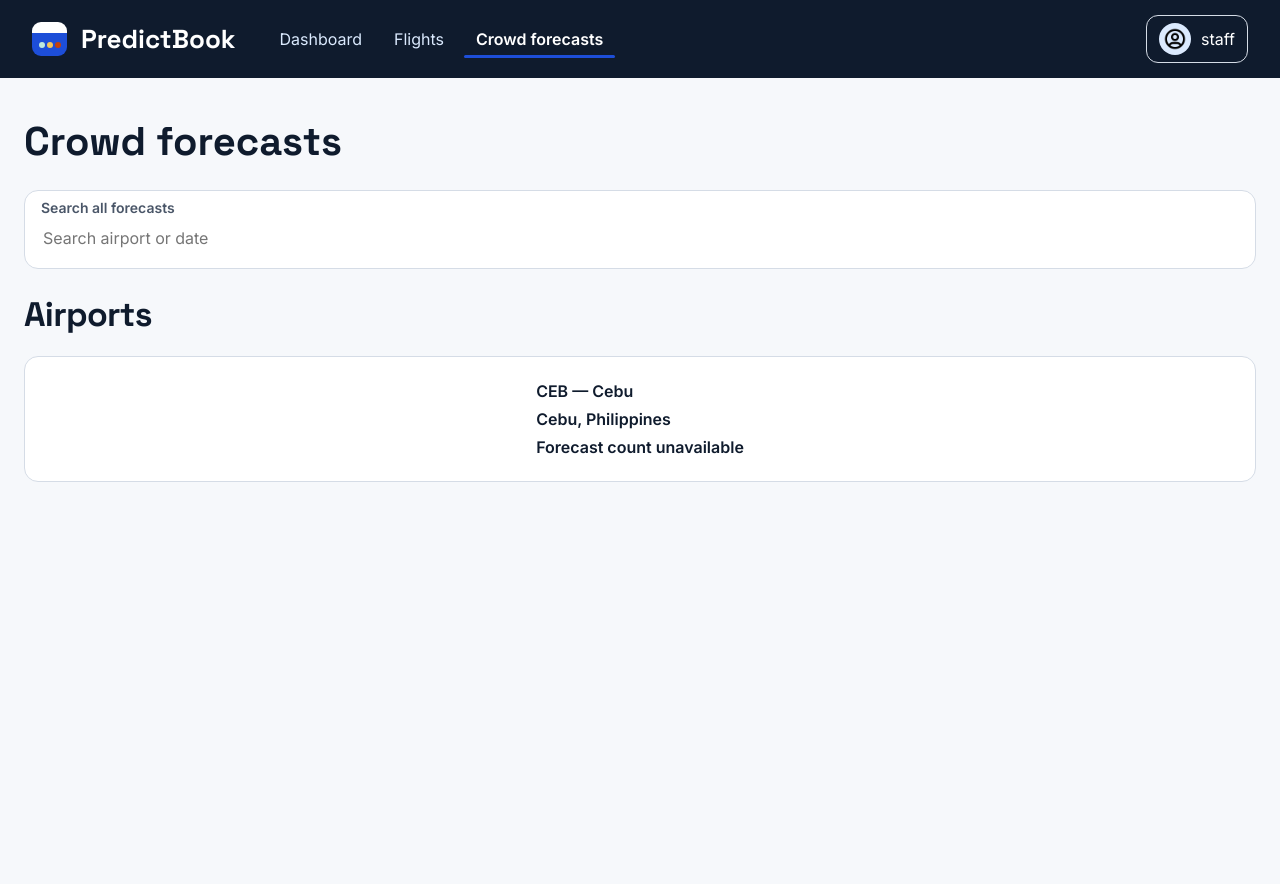
Test case: cancels deletion and then deletes only after confirmation
The image size is (1280, 884).
What coordinates should you click on to do the following:
click the button "CEB — Cebu Cebu, Philippines Forecast count unavailable"
I would click on:
 (640, 419)
Its box is 24,356 -> 1256,482.
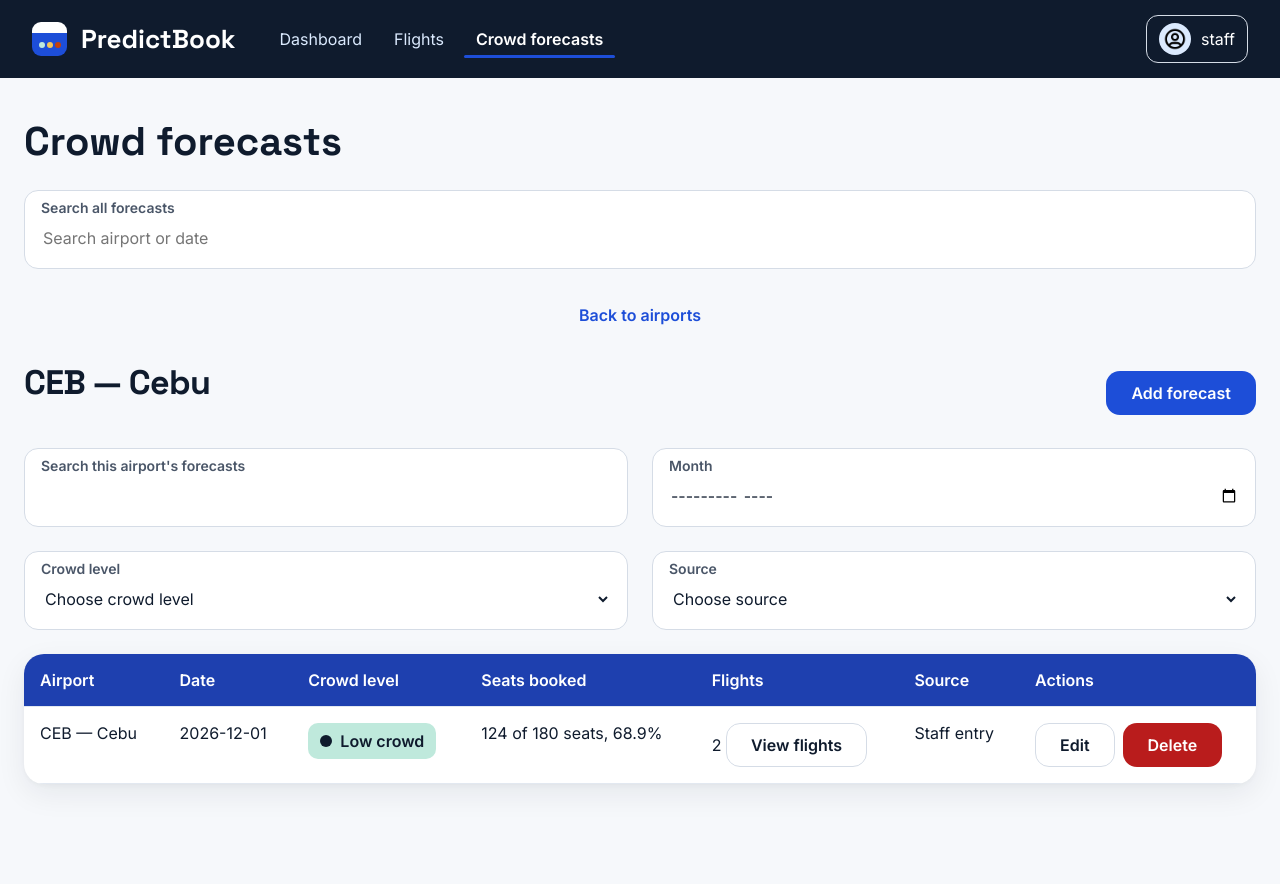
What coordinates should you click on to do the following:
click the button "Delete"
I would click on:
 (1172, 745)
Its box is 1122,723 -> 1222,767.
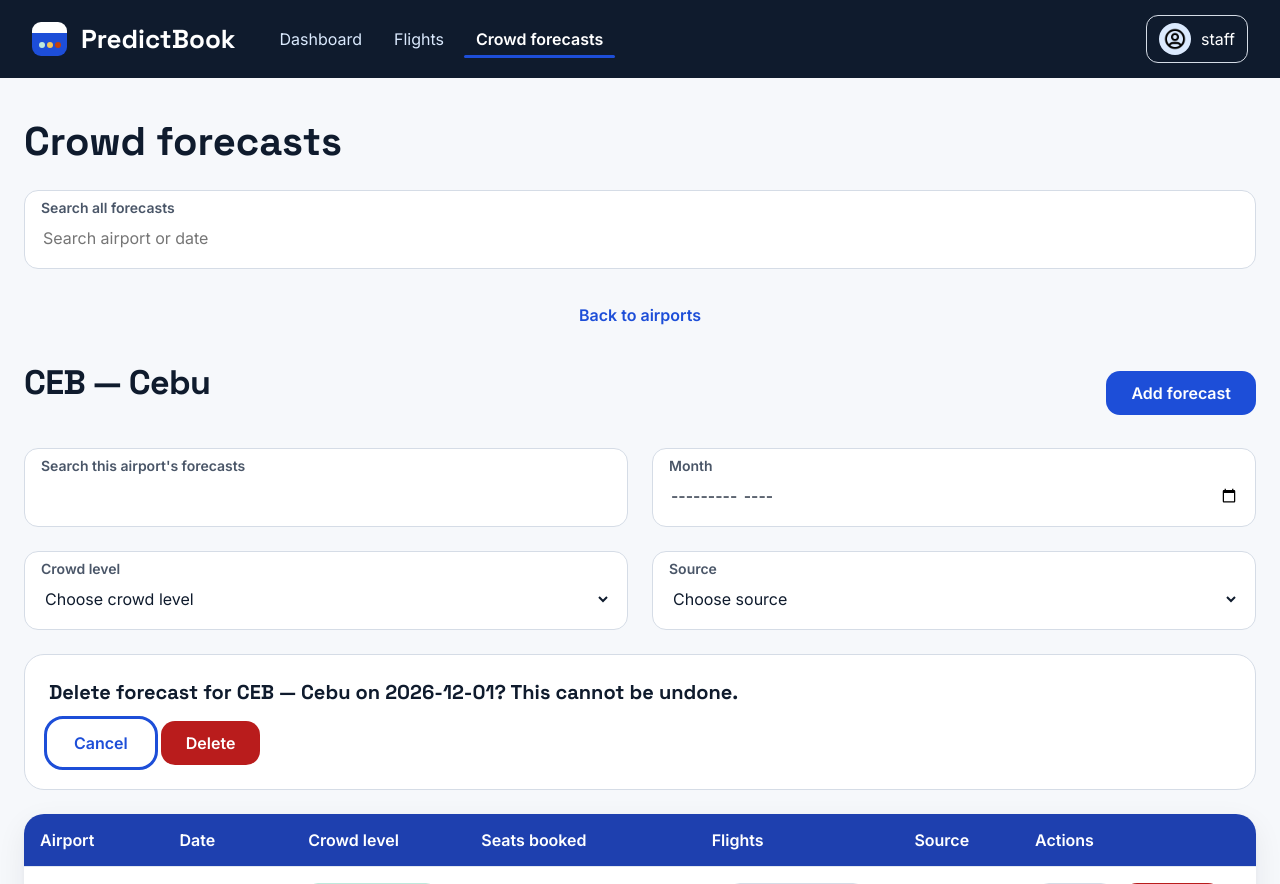
Result: the dialog shows "Delete forecast for CEB — Cebu on 2026-12-01? This cannot be undone." at 49,679 -> 738,705
Result: the button "Cancel" is shown
What coordinates should you click on to do the following:
click the button with class "record-ghost" showing "Cancel"
I would click on:
 (101, 743)
Its box is 49,721 -> 153,765.
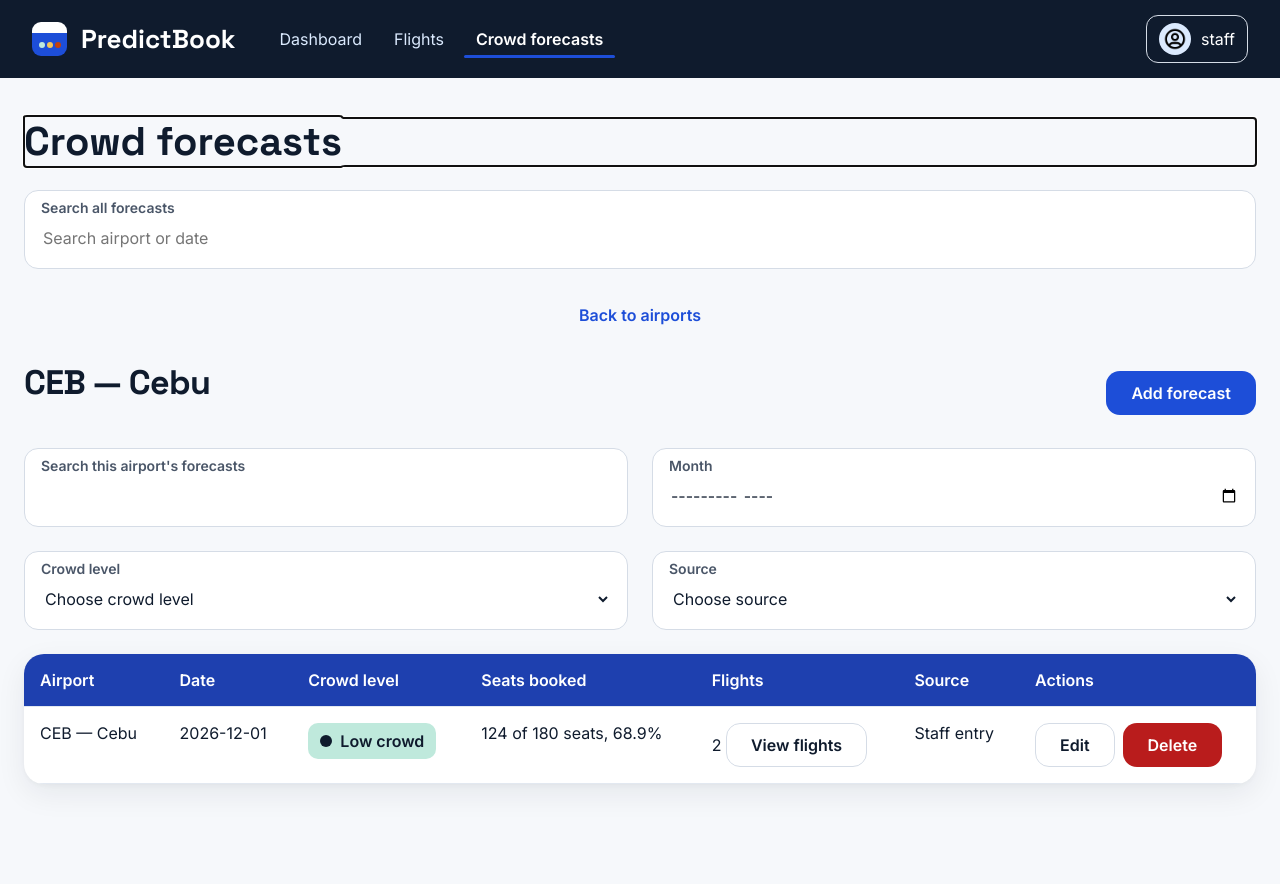
What coordinates should you click on to do the following:
click the button "Delete"
I would click on:
 (1172, 745)
Its box is 1122,723 -> 1222,767.
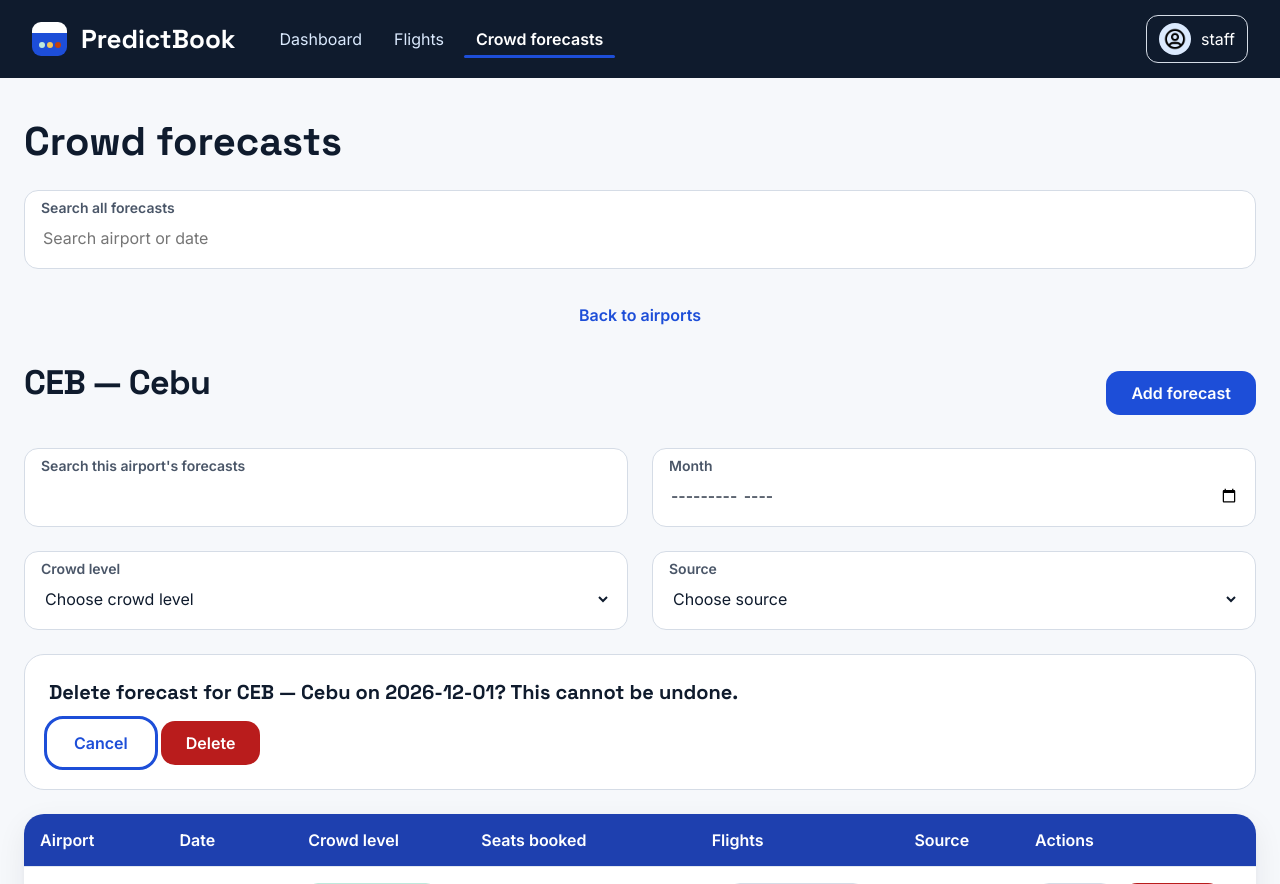
What coordinates should you click on to do the following:
click the 1st button with class "record-danger"
I would click on:
 (210, 743)
Its box is 161,721 -> 260,765.
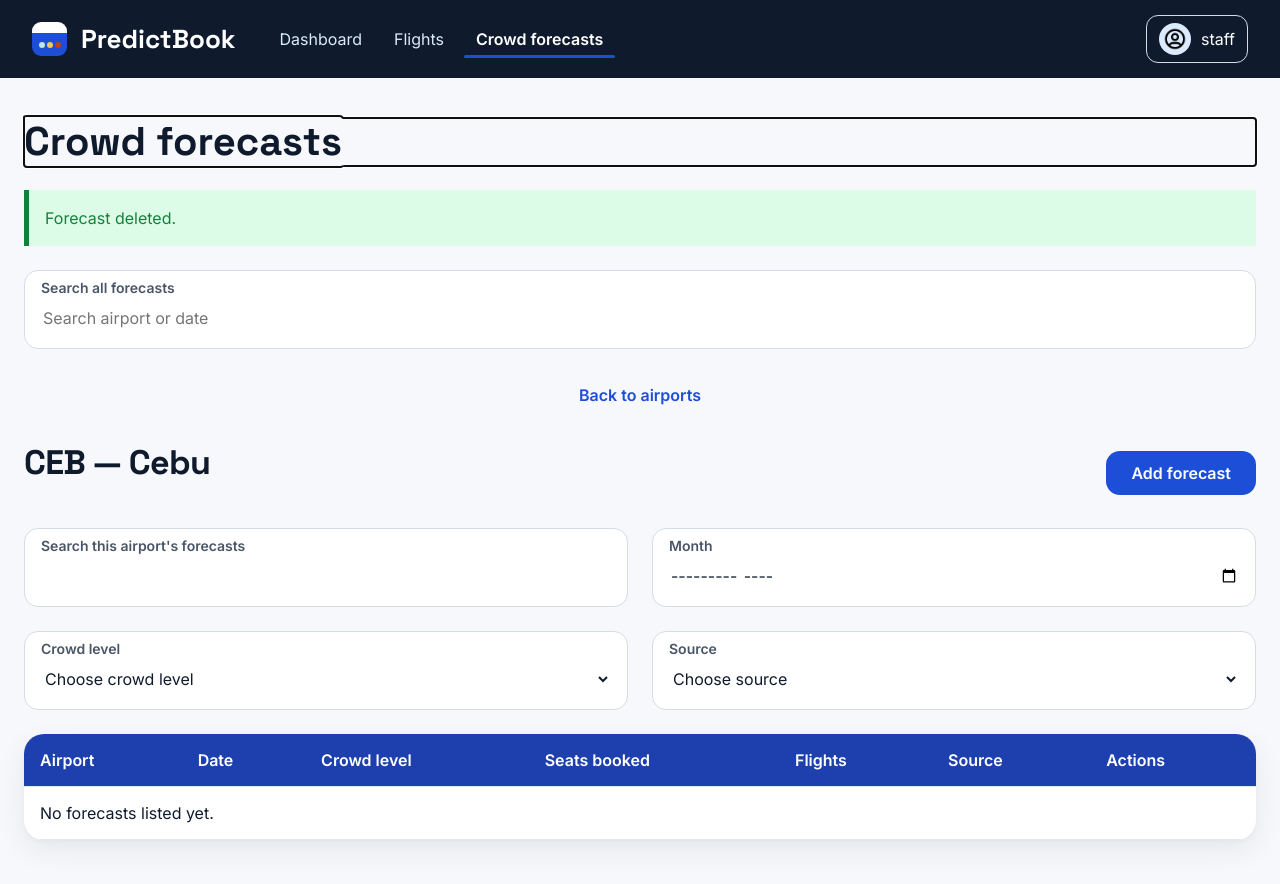
Result: the message "Forecast deleted." is shown at 24,190 -> 1256,246
Result: the text "No forecasts listed yet." is shown at 24,786 -> 1256,840
